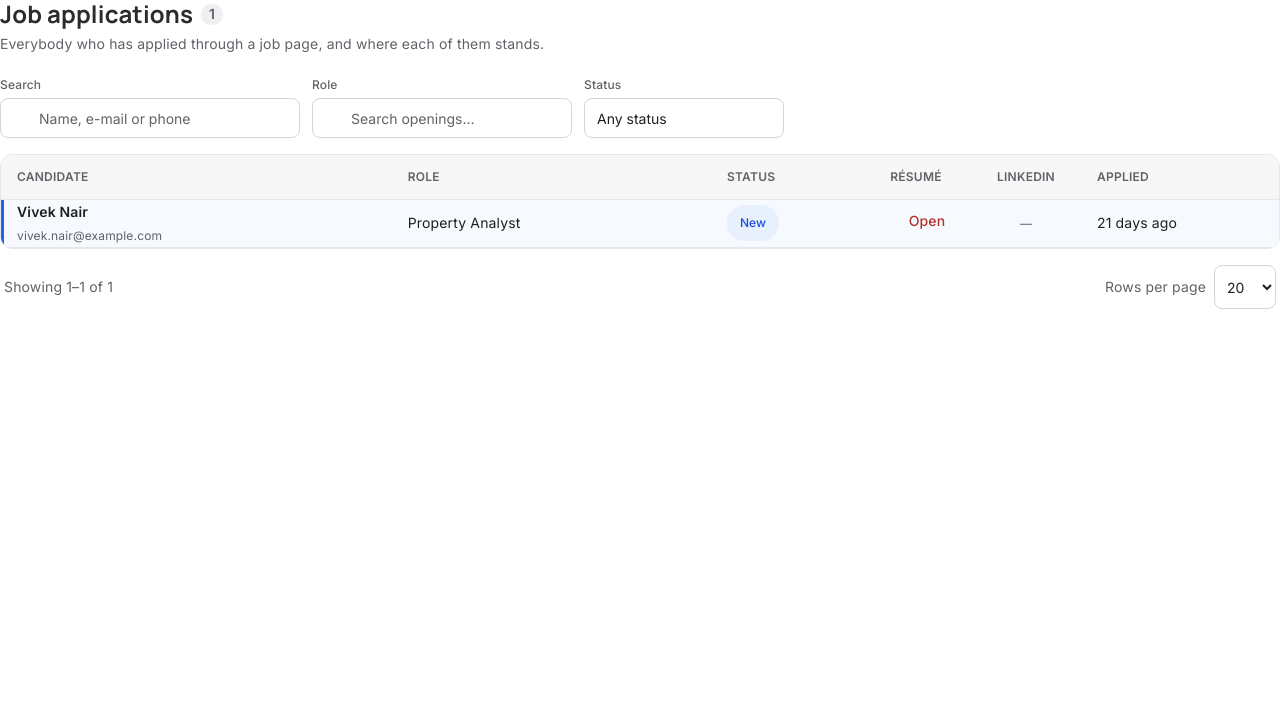
it: QA-61 › draws no line for a detail the application does not have
Click the text "Vivek Nair". click: [52, 212]
box: [17,204,88,221]
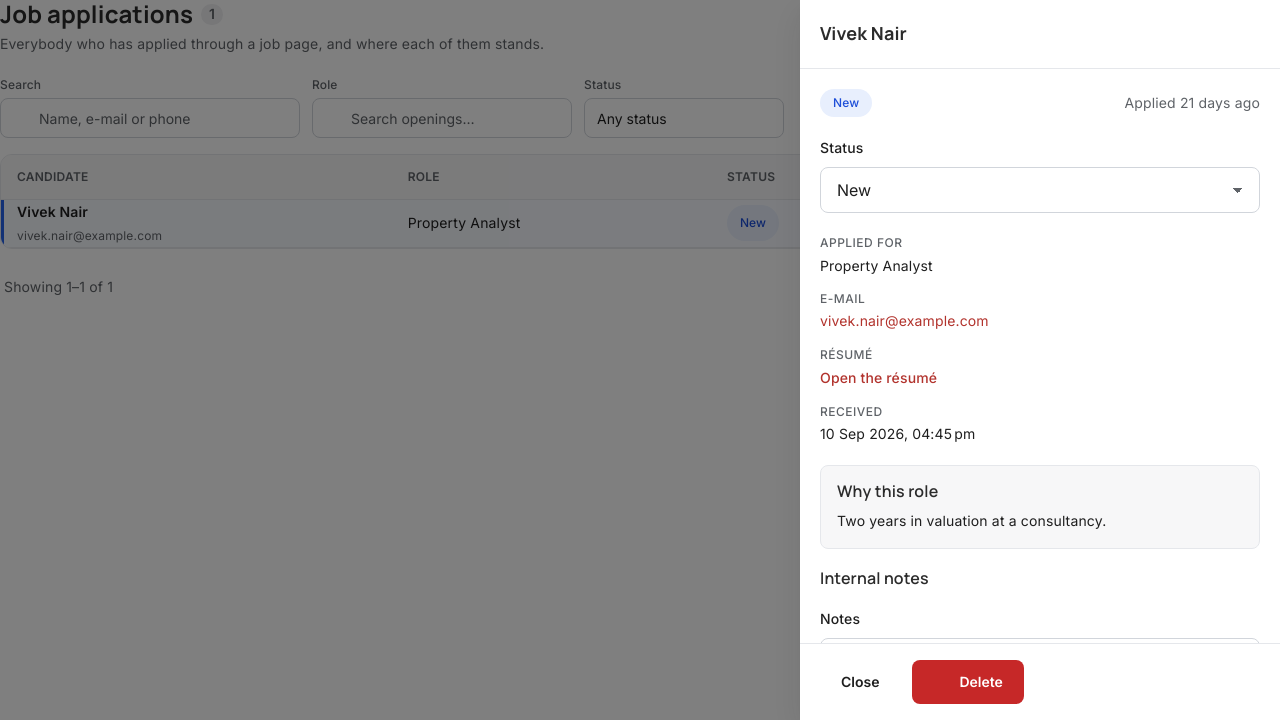
Expected: the text "E-mail" is shown, [820,291,865,306]
